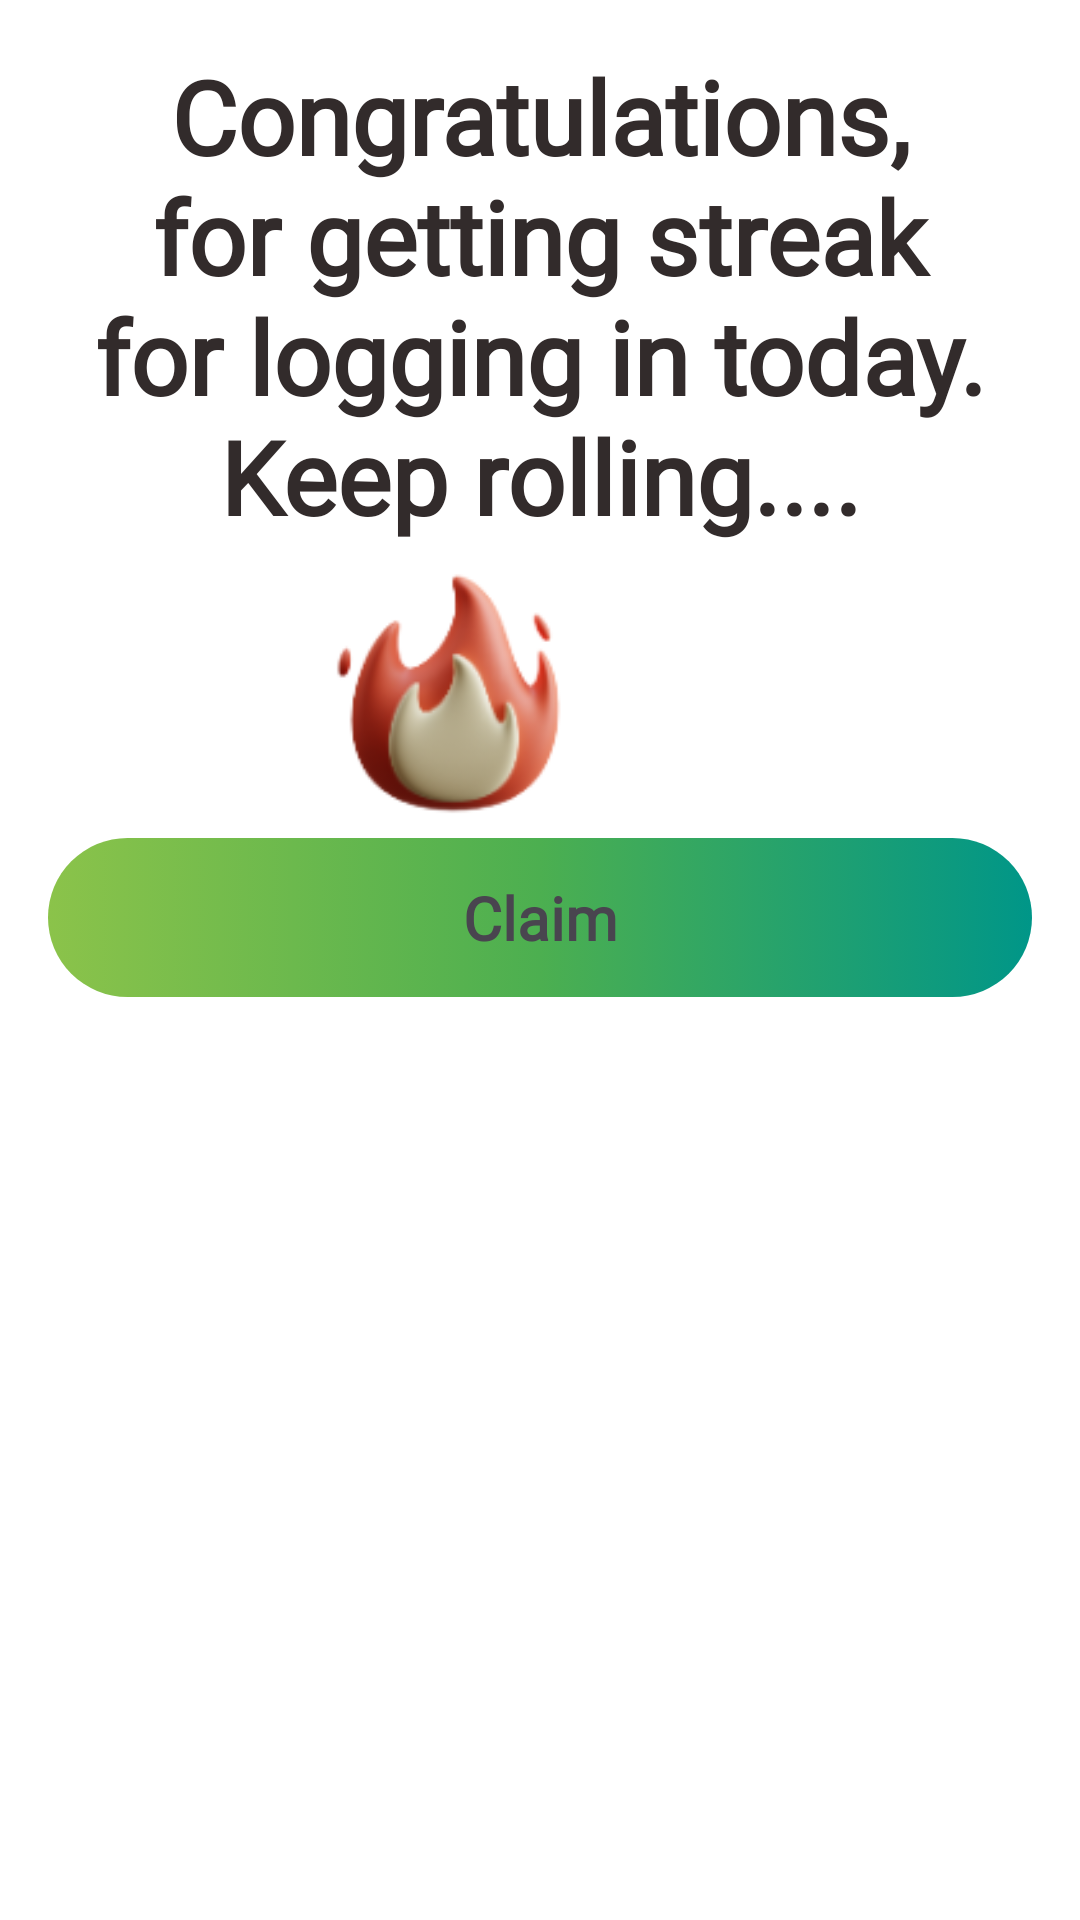

Named icons in this screenshot (1080 x 1920) and their centers, [x,y]:
fire: [448,693]
